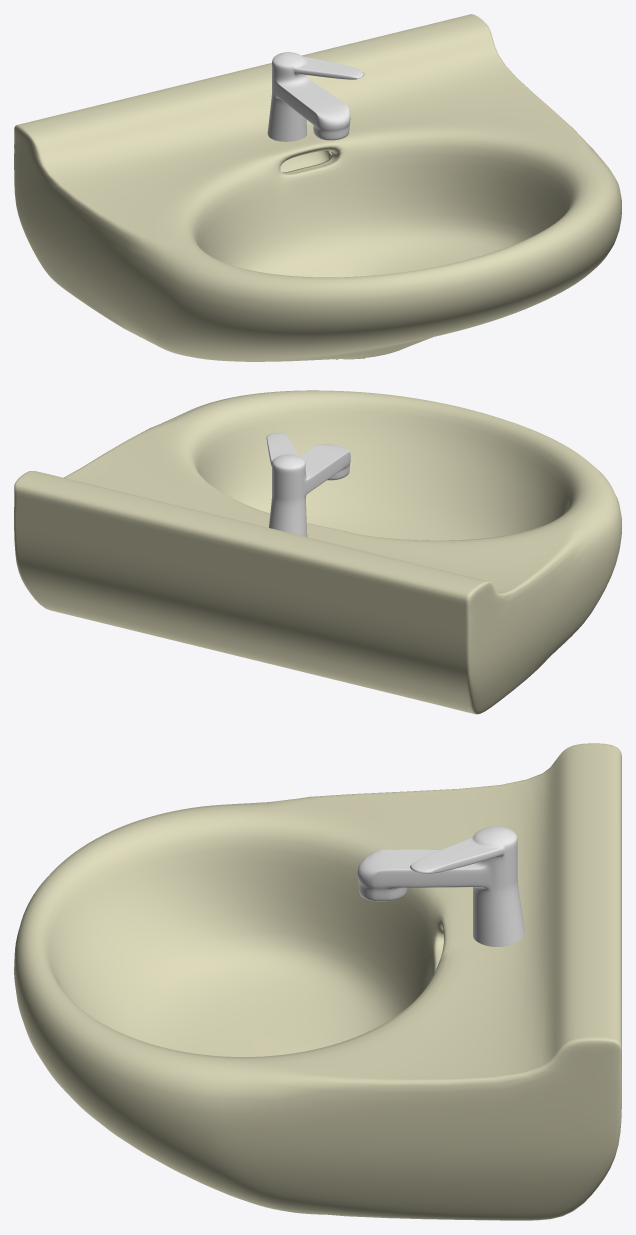
File: Sketchfab_2017_09_03_12_06_52.fbx
3 views of the same model, one above another, from view 1: azimuth 30°, elevation 25°; view 2: azimuth 150°, elevation 25°; view 3: azimuth 270°, elevation 25° (orthographic). The views are drawn at different scales.
Parts seen in each view (by area): view 1: Cylinder01_Geo_0, Cylinder02_Geo_1; view 2: Cylinder01_Geo_0, Cylinder02_Geo_1; view 3: Cylinder01_Geo_0, Cylinder02_Geo_1.
Boxes of the visible parts, <box> form: Cylinder01_Geo_0: <box>14,14,621,361</box>; Cylinder02_Geo_1: <box>267,52,364,141</box>; Cylinder01_Geo_0: <box>14,390,621,714</box>; Cylinder02_Geo_1: <box>266,432,350,536</box>; Cylinder01_Geo_0: <box>14,743,621,1220</box>; Cylinder02_Geo_1: <box>357,826,524,946</box>.
Size of the model in its own units: 69.95 by 34.14 by 60.33.
